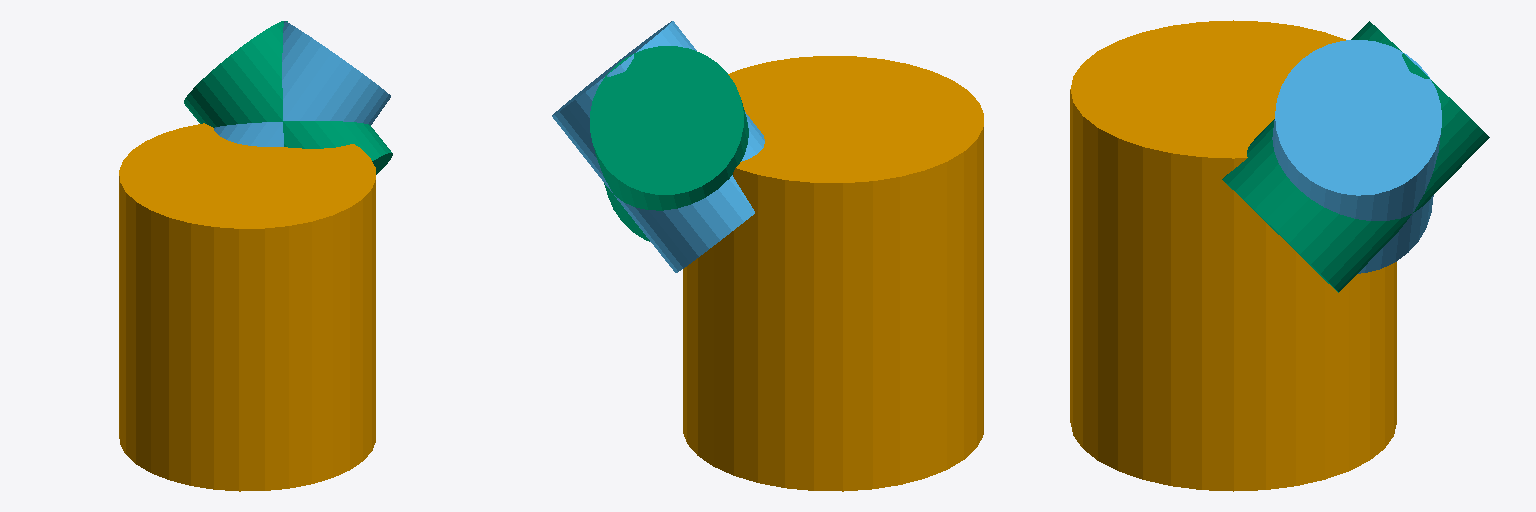
The robot description file, URDF, robot "pepe":
<?xml version="1.0"?><robot name="pepe">
	<link name="0">
		<visual>
			<geometry>
				<cylinder length="2.052335271366942" radius="0.9127046226389154"/>
			</geometry>
		</visual>
		<collision>
			<geometry>
				<cylinder length="2.052335271366942" radius="0.9127046226389154"/>
			</geometry>
		</collision>
		<inertial>
			<mass value="5.371043651051132"/>
			<inertia ixx="0.03" iyy="0.03" izz="0.03" ixy="0" ixz="0" iyx="0"/>
		</inertial>
	</link>
	<link name="11">
		<visual>
			<geometry>
				<cylinder length="1.209598240886392" radius="0.4682555543574971"/>
			</geometry>
		</visual>
		<collision>
			<geometry>
				<cylinder length="1.209598240886392" radius="0.4682555543574971"/>
			</geometry>
		</collision>
		<inertial>
			<mass value="0.8332146444802512"/>
			<inertia ixx="0.03" iyy="0.03" izz="0.03" ixy="0" ixz="0" iyx="0"/>
		</inertial>
	</link>
	<link name="12">
		<visual>
			<geometry>
				<cylinder length="1.209598240886392" radius="0.4682555543574971"/>
			</geometry>
		</visual>
		<collision>
			<geometry>
				<cylinder length="1.209598240886392" radius="0.4682555543574971"/>
			</geometry>
		</collision>
		<inertial>
			<mass value="0.8332146444802512"/>
			<inertia ixx="0.03" iyy="0.03" izz="0.03" ixy="0" ixz="0" iyx="0"/>
		</inertial>
	</link>
	<joint name="11_to_0" type="revolute">
		<parent link="0"/>
		<child link="11"/>
		<axis xyz="1 0 0"/>
		<limit effort="1" upper="-3.1415" lower="3.1415" velocity="1"/>
		<origin rpy="8.855594217367054 3.6816516015654828 0.9553175657347027" xyz="0.7203587746564706 0.6726142639003868 0.9464490950621813"/>
	</joint>
	<joint name="12_to_0" type="revolute">
		<parent link="0"/>
		<child link="12"/>
		<axis xyz="1 0 0"/>
		<limit effort="1" upper="-3.1415" lower="3.1415" velocity="1"/>
		<origin rpy="13.28339132605058 3.6816516015654828 0.9553175657347027" xyz="0.7203587746564706 0.6726142639003868 0.9464490950621813"/>
	</joint>
</robot>

--- Render facts (derived) ---
3 views of the same robot in one strip: view 1: azimuth 30°, elevation 25°; view 2: azimuth 150°, elevation 25°; view 3: azimuth 270°, elevation 25° (orthographic).
Robot: pepe — 3 links, 2 joints (2 revolute); root link 0; default pose: all joints at 0.
Visible links, largest first — view 1: 0, 12, 11; view 2: 0, 12, 11; view 3: 0, 11, 12.
Boxes of the visible links, left/top/right/bottom form: 0: left=119, top=123, right=375, bottom=491; 12: left=184, top=21, right=392, bottom=174; 11: left=214, top=21, right=390, bottom=146; 0: left=683, top=56, right=983, bottom=491; 12: left=590, top=46, right=748, bottom=241; 11: left=552, top=21, right=764, bottom=272; 0: left=1070, top=20, right=1396, bottom=491; 11: left=1272, top=40, right=1441, bottom=273; 12: left=1222, top=21, right=1489, bottom=292.
Bounding box of the posed robot: 2.39 × 2.34 × 2.73 m (x, y, z).
Geometry: primitives only (box / cylinder / sphere), no mesh files.
